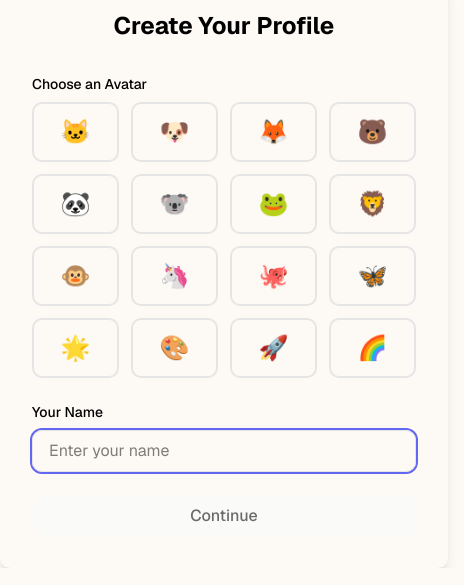
Test: CreateUserForm › name validation › disables submit button when name is too short
Expected: the button "Continue" is disabled, [32,496,416,536]
Type "AB" into the field with placeholder "Enter your name".
click(224, 451); type("AB")  # box [32,430,416,472]
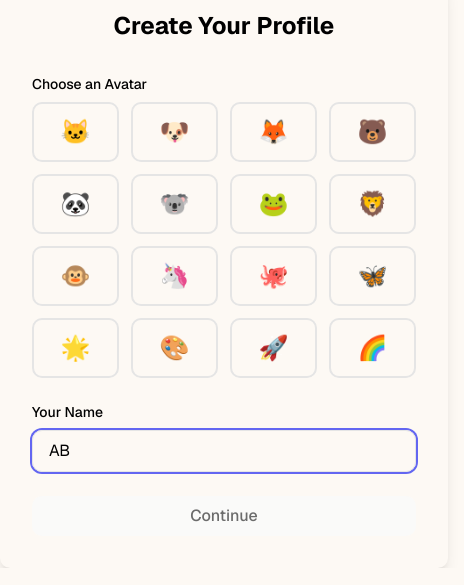
Expected: the button "Continue" is disabled, [32,496,416,536]
Type "C" into the field with placeholder "Enter your name".
click(224, 451); type("C")  # box [32,430,416,472]
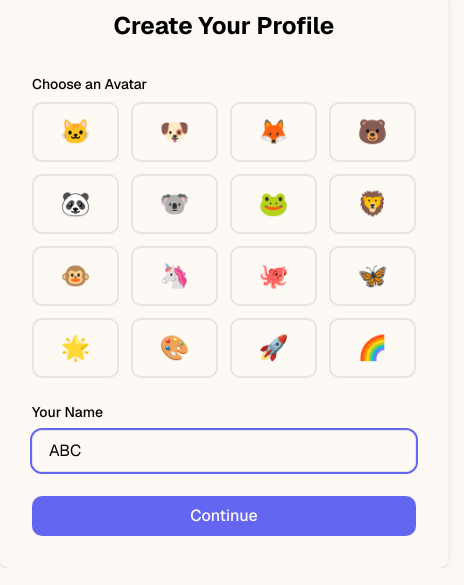
Expected: the button "Continue" is enabled, [32,496,416,536]
